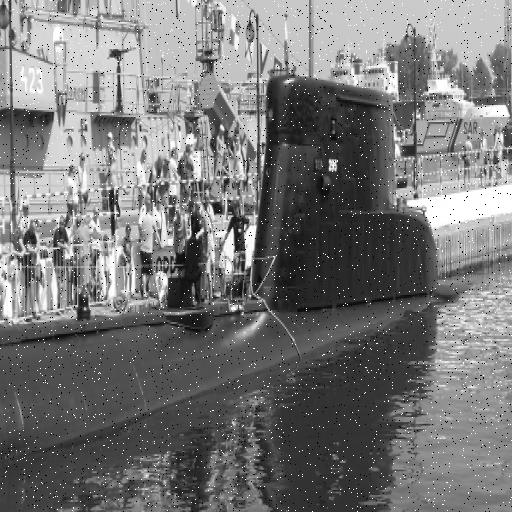submarine: (1, 80, 451, 479)
